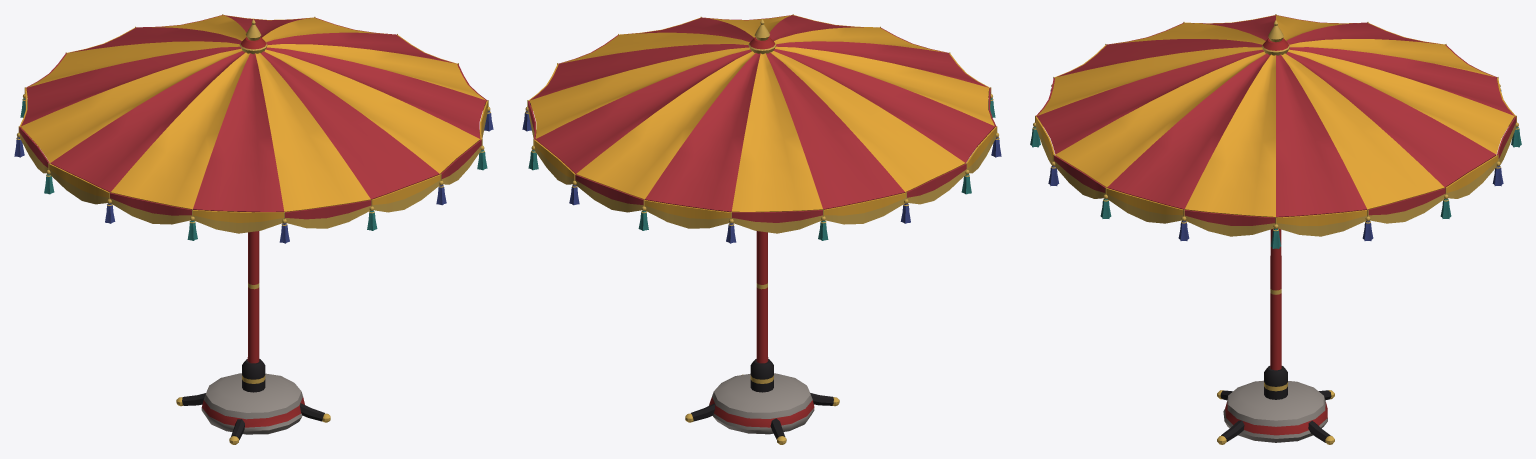
The model's file is deco_parasol.fbx.
3 renders of one model, left to right at view 1: azimuth 30°, elevation 25°; view 2: azimuth 150°, elevation 25°; view 3: azimuth 270°, elevation 25°, orthographic.
Visible parts, largest first — view 1: Parasol_Canopy, Parasol_Valance, Parasol_Base, Parasol_Tassels, Parasol_Pole; view 2: Parasol_Canopy, Parasol_Valance, Parasol_Base, Parasol_Tassels, Parasol_Pole; view 3: Parasol_Canopy, Parasol_Valance, Parasol_Base, Parasol_Tassels, Parasol_Pole.
Part boxes in pixels (x1,y1,x2,y2): Parasol_Canopy: (21,15,486,212); Parasol_Valance: (19,15,487,233); Parasol_Base: (176,359,330,444); Parasol_Tassels: (14,14,493,243); Parasol_Pole: (247,231,259,363); Parasol_Canopy: (529,15,994,212); Parasol_Valance: (528,15,996,233); Parasol_Base: (685,359,839,444); Parasol_Tassels: (522,14,1001,243); Parasol_Pole: (756,231,768,363); Parasol_Canopy: (1037,15,1514,217); Parasol_Valance: (1035,15,1516,236); Parasol_Base: (1217,366,1334,444); Parasol_Tassels: (1030,14,1521,248); Parasol_Pole: (1270,228,1281,370).
Bounding box in the file's own units: 413 × 373 × 413.
